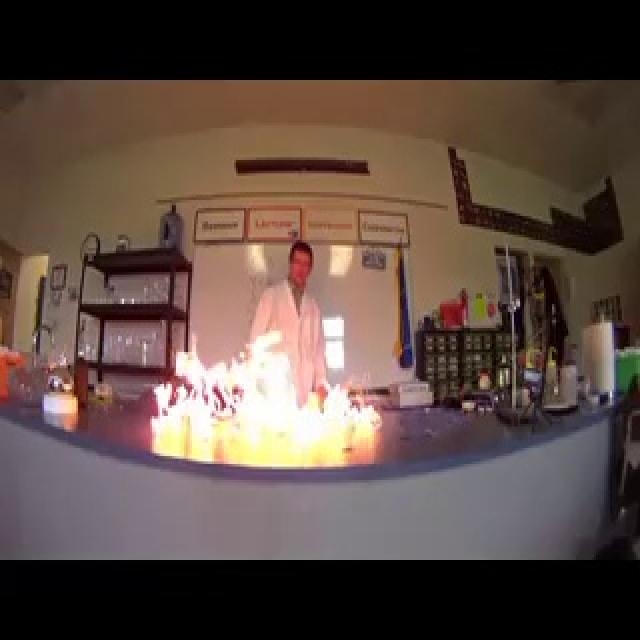fire: (151, 324, 383, 440)
